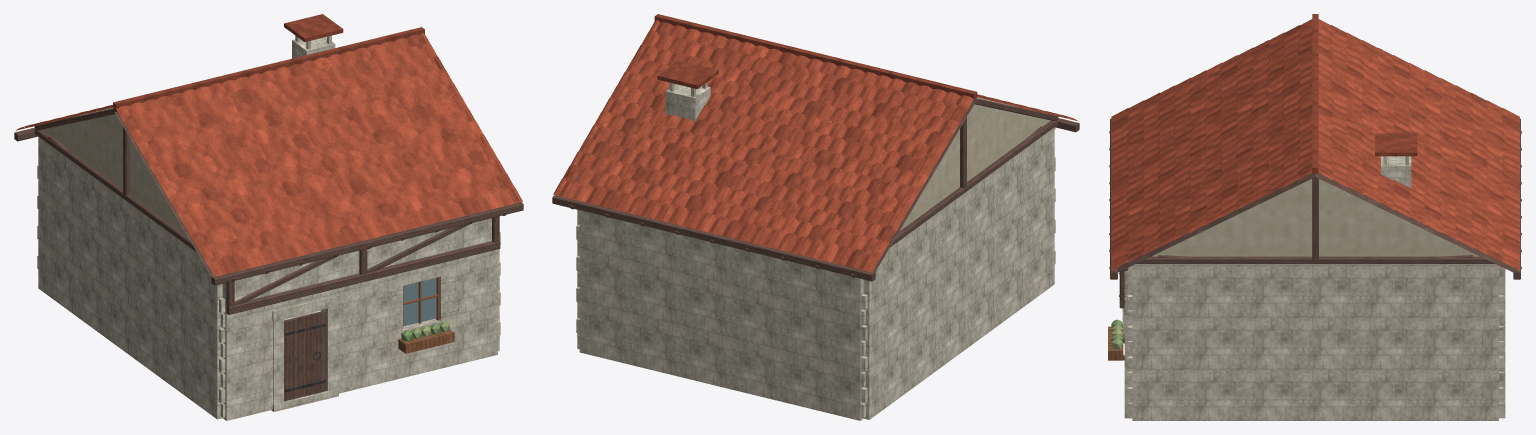
File: B11_vivienda.glb
3 views of the same model, side by side, from view 1: azimuth 30°, elevation 25°; view 2: azimuth 150°, elevation 25°; view 3: azimuth 270°, elevation 25° (orthographic). The views are drawn at different scales.
Parts seen in each view (by area): view 1: AUR034_B11_clay_tiles, AUR034_B11_lower_masonry, AUR034_B11_gable-1, AUR034_B11_entry_leaf0, AUR034_B11_fascia-1, AUR034_B11_sill, AUR034_B11_ridge, AUR034_B11_gable_tie-1, AUR034_B11_window0_glazing, AUR034_B11_dressed_corner_stones, AUR034_B11_cowl, AUR034_B11_entry_pier1 (+9 smaller); view 2: AUR034_B11_lower_masonry, AUR034_B11_clay_tiles, AUR034_B11_gable-1, AUR034_B11_fascia1, AUR034_B11_ridge, AUR034_B11_gable_tie-1, AUR034_B11_chimney, AUR034_B11_dressed_corner_stones, AUR034_B11_cowl, AUR034_B11_roof_sheathing, AUR034_B11_gable_rake-1-1; view 3: AUR034_B11_clay_tiles, AUR034_B11_lower_masonry, AUR034_B11_gable1, AUR034_B11_gable_tie1, AUR034_B11_roof_sheathing, AUR034_B11_dressed_corner_stones, AUR034_B11_ridge, AUR034_B11_cowl, AUR034_B11_chimney, AUR034_B11_gable_kingpost1, AUR034_B11_fascia-1.
Part boxes in pixels (left/top/right/bottom): AUR034_B11_clay_tiles: left=15, top=33, right=522, bottom=276; AUR034_B11_lower_masonry: left=38, top=136, right=499, bottom=420; AUR034_B11_gable-1: left=42, top=108, right=187, bottom=236; AUR034_B11_entry_leaf0: left=284, top=310, right=326, bottom=401; AUR034_B11_fascia-1: left=211, top=202, right=523, bottom=285; AUR034_B11_sill: left=226, top=241, right=500, bottom=314; AUR034_B11_ridge: left=113, top=27, right=424, bottom=109; AUR034_B11_gable_tie-1: left=34, top=129, right=196, bottom=252; AUR034_B11_window0_glazing: left=403, top=277, right=436, bottom=326; AUR034_B11_dressed_corner_stones: left=37, top=165, right=500, bottom=417; AUR034_B11_cowl: left=284, top=14, right=343, bottom=41; AUR034_B11_entry_pier1: left=322, top=306, right=338, bottom=391; AUR034_B11_lower_masonry: left=577, top=127, right=1054, bottom=420; AUR034_B11_clay_tiles: left=553, top=20, right=1078, bottom=272; AUR034_B11_gable-1: left=900, top=97, right=1050, bottom=230; AUR034_B11_fascia1: left=552, top=195, right=875, bottom=281; AUR034_B11_ridge: left=654, top=14, right=977, bottom=99; AUR034_B11_gable_tie-1: left=890, top=120, right=1058, bottom=246; AUR034_B11_chimney: left=665, top=84, right=710, bottom=121; AUR034_B11_dressed_corner_stones: left=576, top=157, right=1055, bottom=418; AUR034_B11_cowl: left=657, top=60, right=718, bottom=89; AUR034_B11_roof_sheathing: left=873, top=101, right=1062, bottom=272; AUR034_B11_gable_rake-1-1: left=973, top=98, right=1058, bottom=120; AUR034_B11_clay_tiles: left=1111, top=19, right=1519, bottom=270; AUR034_B11_lower_masonry: left=1124, top=265, right=1505, bottom=420; AUR034_B11_gable1: left=1134, top=179, right=1496, bottom=264; AUR034_B11_gable_tie1: left=1132, top=256, right=1498, bottom=263; AUR034_B11_roof_sheathing: left=1117, top=173, right=1513, bottom=272; AUR034_B11_dressed_corner_stones: left=1127, top=295, right=1503, bottom=416; AUR034_B11_ridge: left=1312, top=14, right=1318, bottom=173; AUR034_B11_cowl: left=1375, top=133, right=1417, bottom=156; AUR034_B11_chimney: left=1381, top=156, right=1411, bottom=188; AUR034_B11_gable_kingpost1: left=1312, top=173, right=1318, bottom=261; AUR034_B11_fascia-1: left=1110, top=119, right=1117, bottom=279.
Bounding box in the file's own units: 7.96 × 6.29 × 9.03.
Materials: 12 (8 with a texture image).
